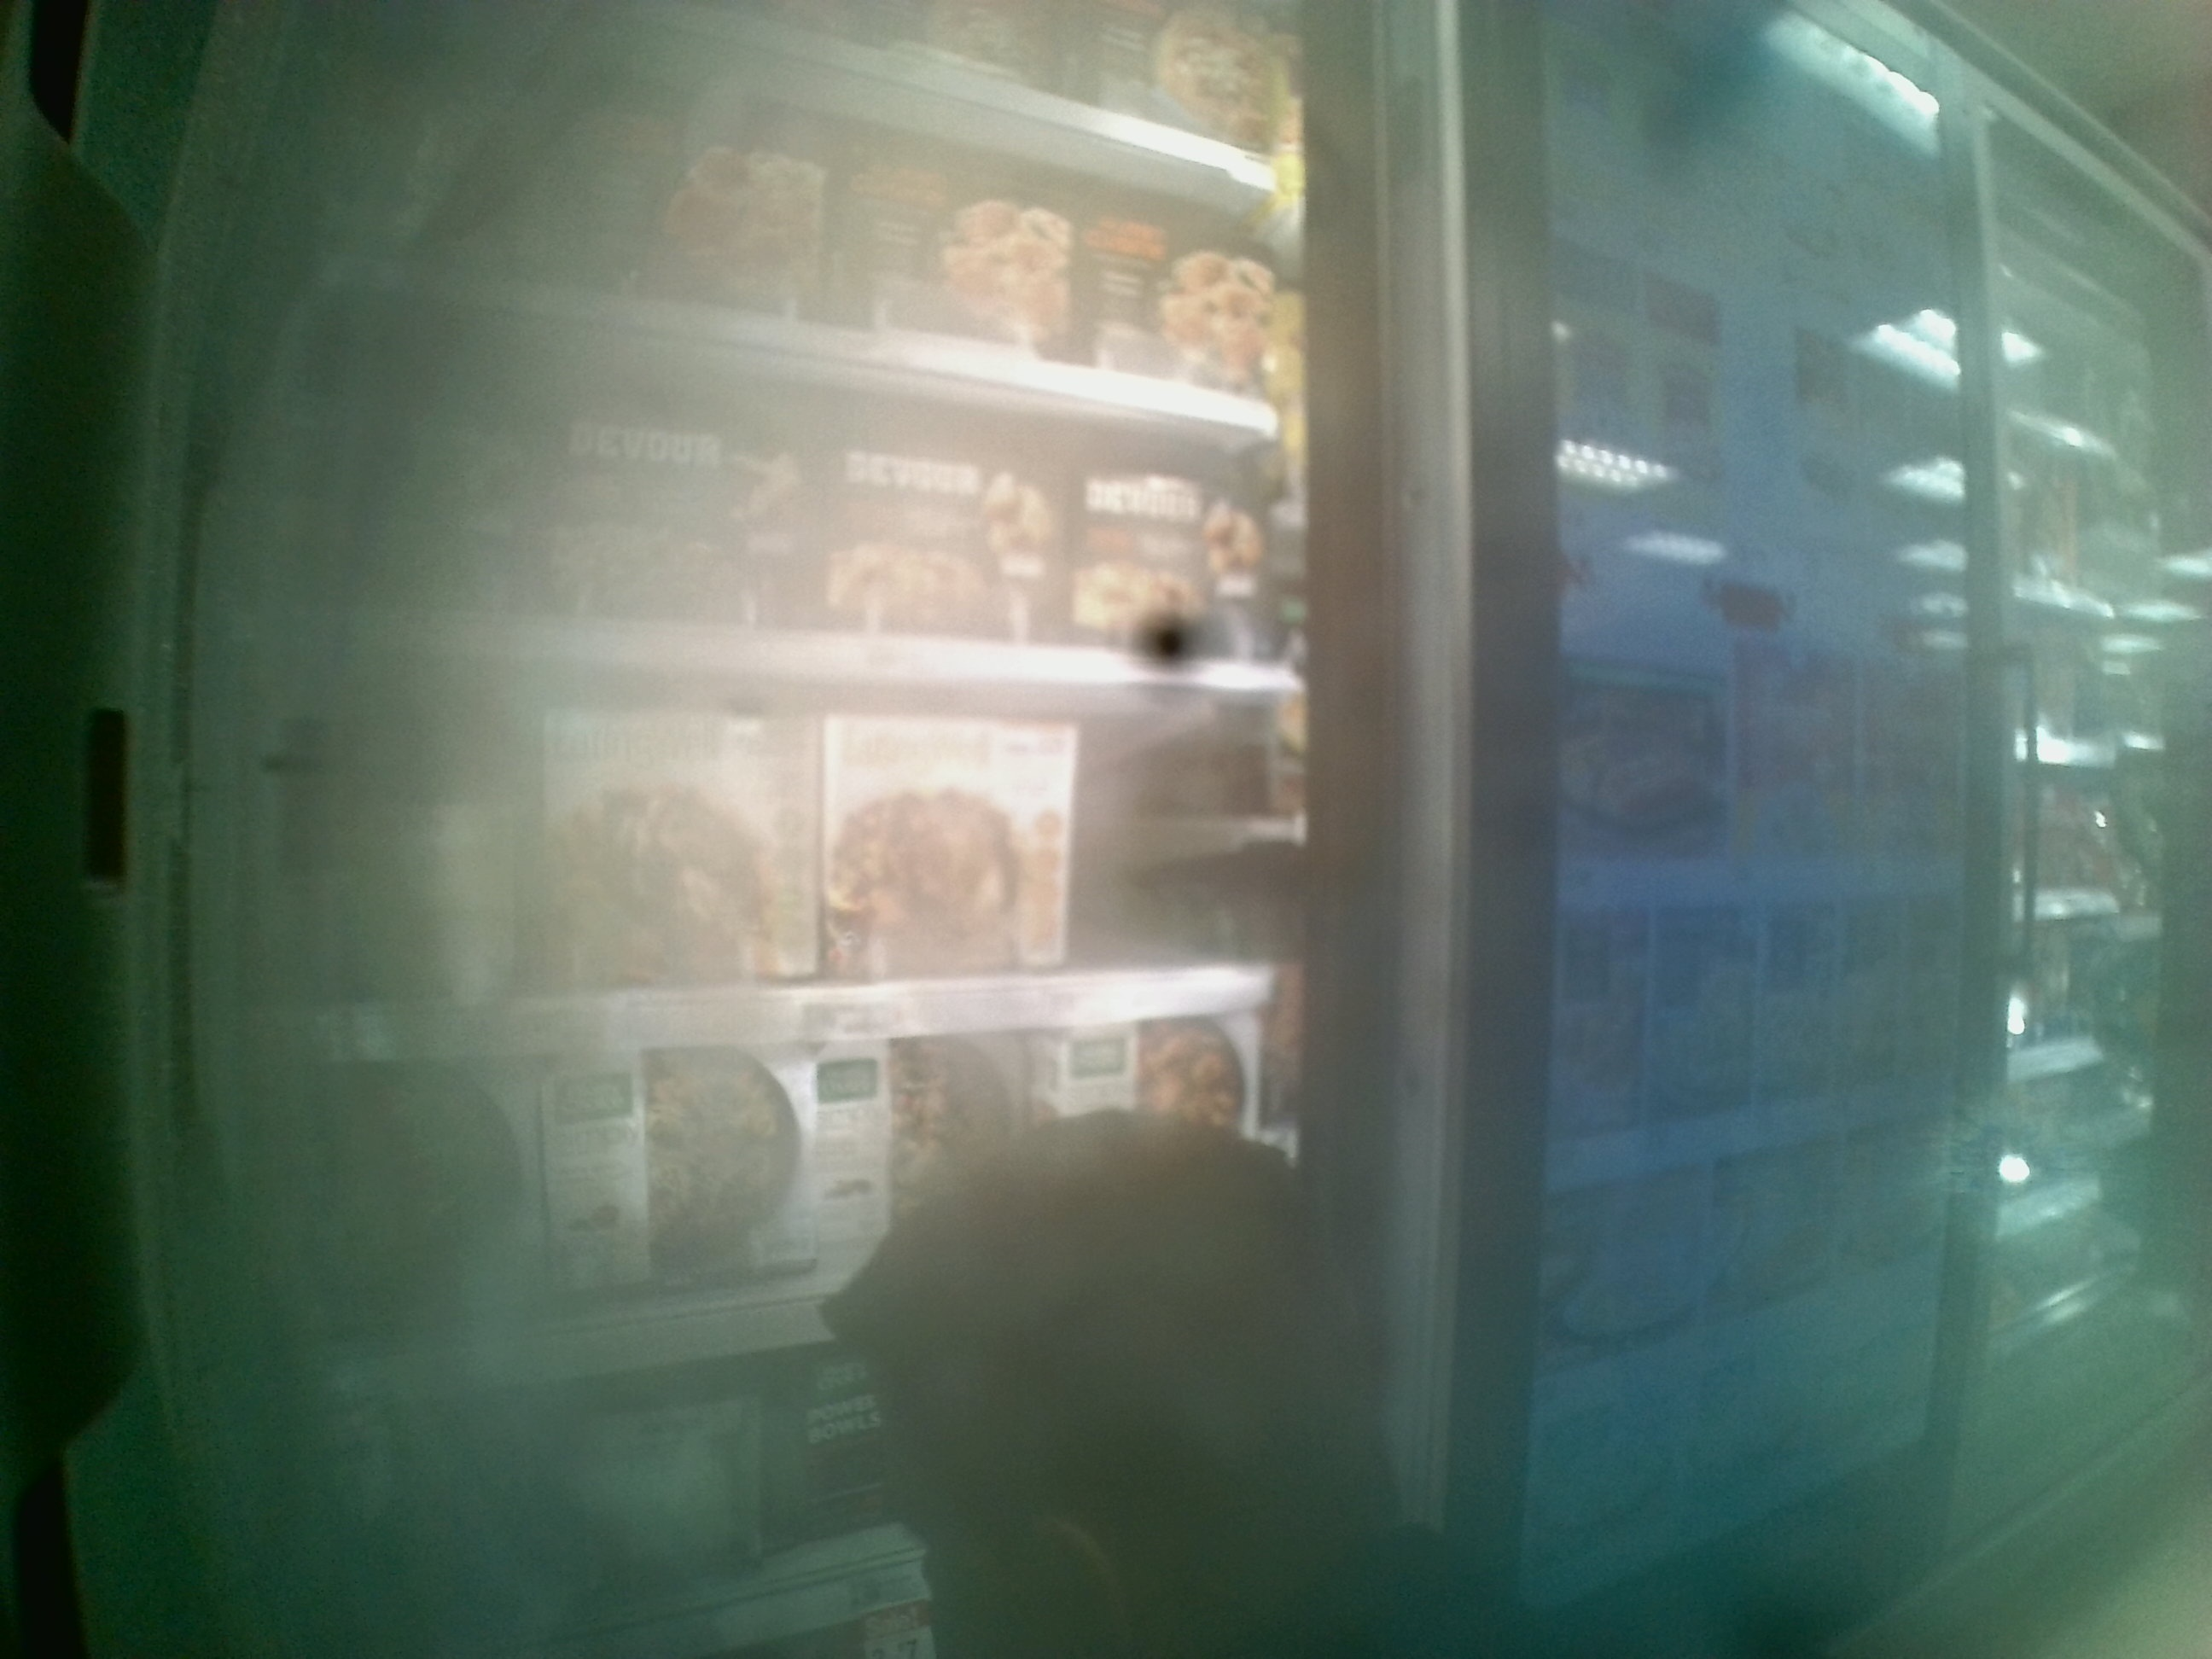pizza: (536, 709, 810, 971), (552, 1054, 819, 1307), (545, 392, 808, 622), (824, 723, 1069, 964), (824, 139, 1059, 355), (1078, 164, 1289, 404), (1064, 451, 1275, 683), (829, 437, 1038, 648)
